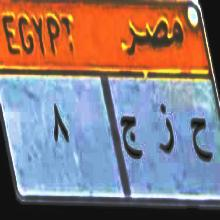7aa: (186, 108, 212, 164)
8: (47, 104, 71, 152)
jeem: (120, 107, 144, 165)
zay: (154, 96, 175, 156)
